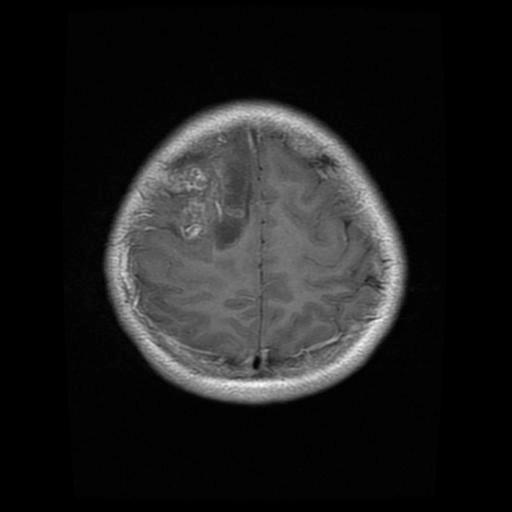Tumour-Glioma: (167, 163, 242, 237)
